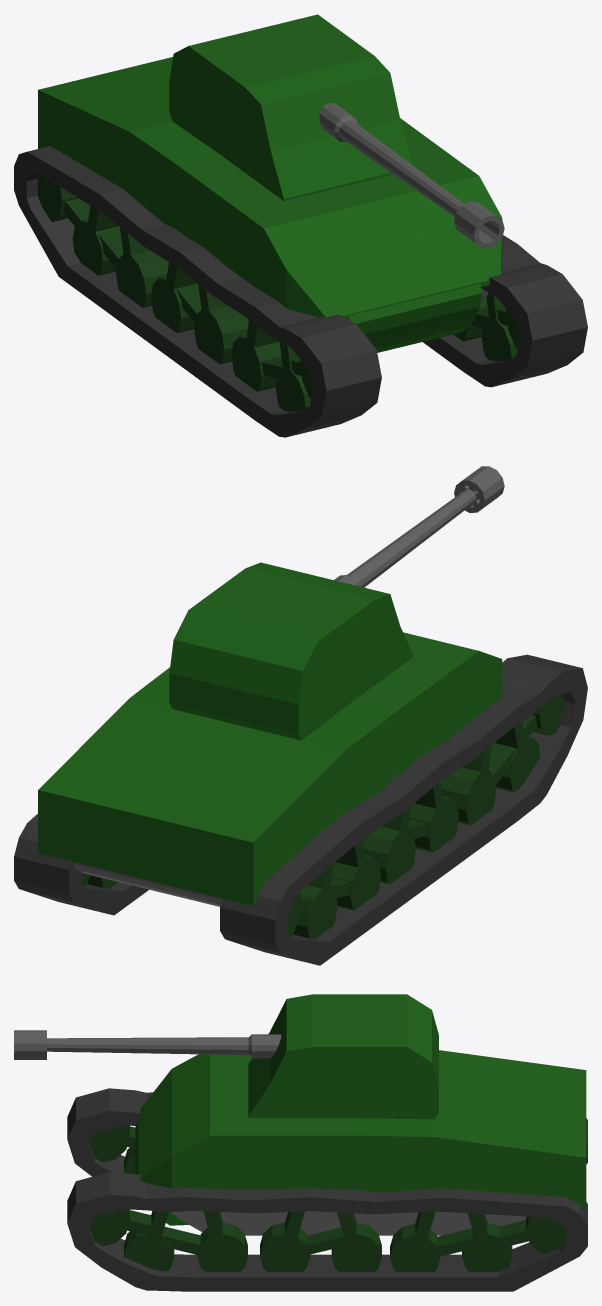
Rendered from NewTank.fbx.
3 renders of one model, top to bottom at view 1: azimuth 30°, elevation 25°; view 2: azimuth 150°, elevation 25°; view 3: azimuth 270°, elevation 25°, orthographic. The views are drawn at different scales.
Visible parts, largest first — view 1: Tank; view 2: Tank; view 3: Tank.
Boxes of the visible parts, x1,y1,x2,y2 form: Tank: (14, 14, 587, 437); Tank: (14, 466, 587, 965); Tank: (14, 994, 587, 1291).
Bounding box in the file's own units: 479 × 458 × 1093.
